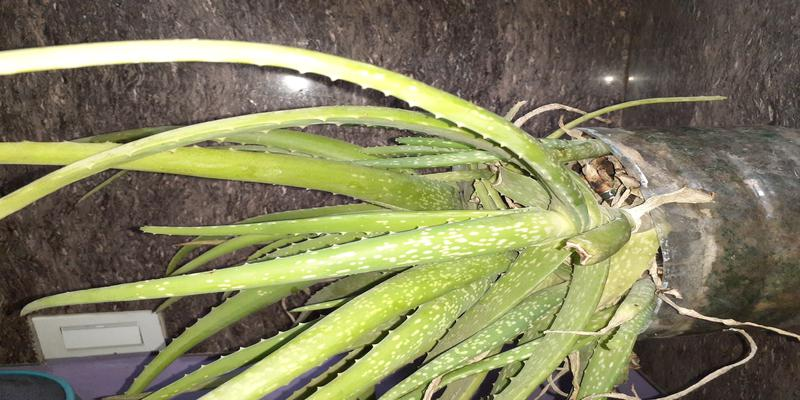Aloevera: (153, 82, 649, 391)
